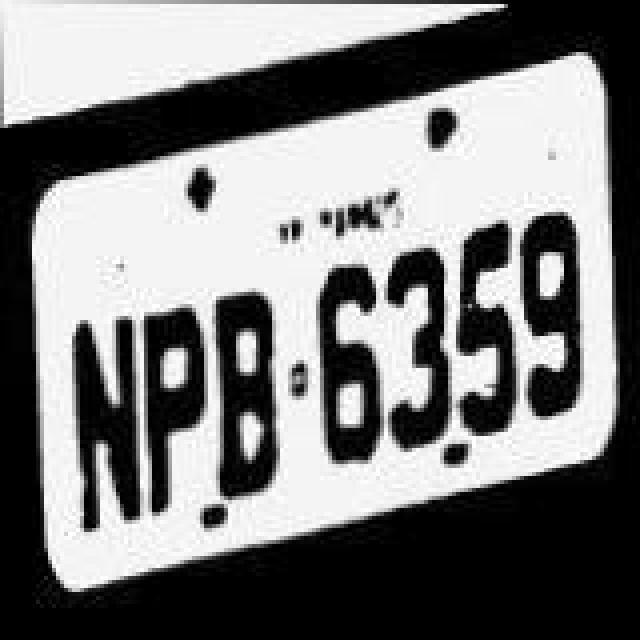3: (378, 234, 454, 458)
5: (448, 200, 520, 444)
6: (312, 254, 384, 486)
9: (518, 176, 594, 440)
B: (210, 252, 286, 504)
N: (60, 264, 140, 552)
P: (136, 260, 208, 524)
